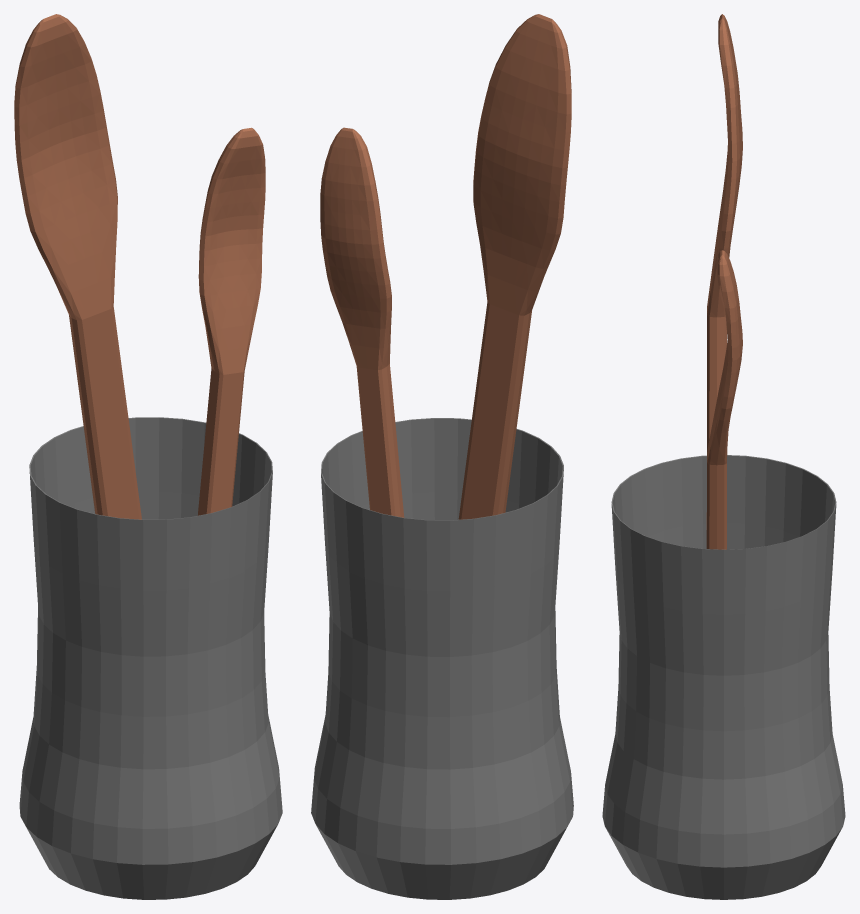
Rendered from utensilsPot.obj.
3 views of the same model, side by side, from view 1: azimuth 30°, elevation 25°; view 2: azimuth 150°, elevation 25°; view 3: azimuth 270°, elevation 25° (orthographic). The views are drawn at different scales.
Visible parts, largest first — view 1: bol.001_Circle.018_Material.007, Cube_Cube.031_Material.023, Cube.002_Cube.032_Material.023; view 2: bol.001_Circle.018_Material.007, Cube_Cube.031_Material.023, Cube.002_Cube.032_Material.023; view 3: bol.001_Circle.018_Material.007, Cube_Cube.031_Material.023, Cube.002_Cube.032_Material.023.
Part boxes in pixels (x1=…): bol.001_Circle.018_Material.007: x1=19, y1=417, x2=282, y2=899; Cube_Cube.031_Material.023: x1=14, y1=14, x2=141, y2=519; Cube.002_Cube.032_Material.023: x1=197, y1=127, x2=265, y2=515; bol.001_Circle.018_Material.007: x1=311, y1=418, x2=573, y2=899; Cube_Cube.031_Material.023: x1=458, y1=14, x2=571, y2=519; Cube.002_Cube.032_Material.023: x1=320, y1=127, x2=404, y2=517; bol.001_Circle.018_Material.007: x1=602, y1=455, x2=845, y2=899; Cube_Cube.031_Material.023: x1=706, y1=14, x2=742, y2=548; Cube.002_Cube.032_Material.023: x1=707, y1=250, x2=742, y2=549.
Bounding box in the file's own units: 12.21 × 40.2 × 11.12.
